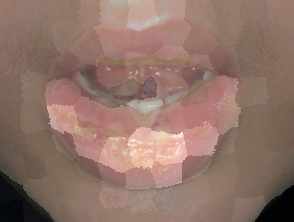SJS-TEN: (49, 84, 241, 184), (87, 53, 216, 71)
